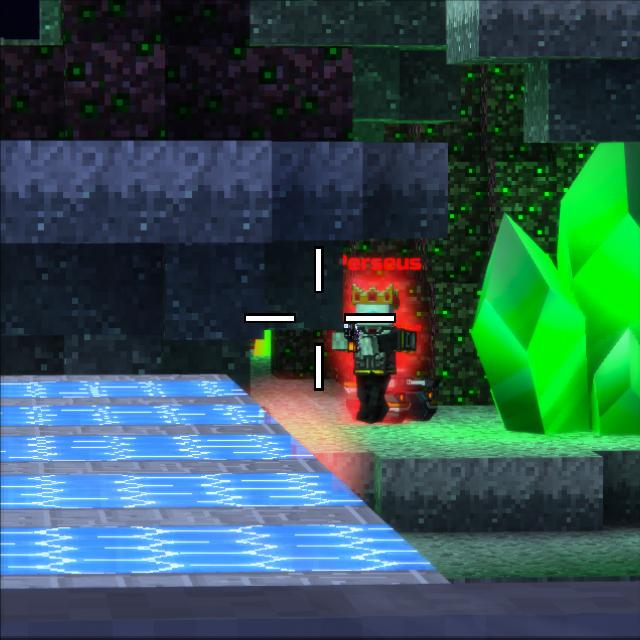Enemy: (330, 283, 416, 424)
